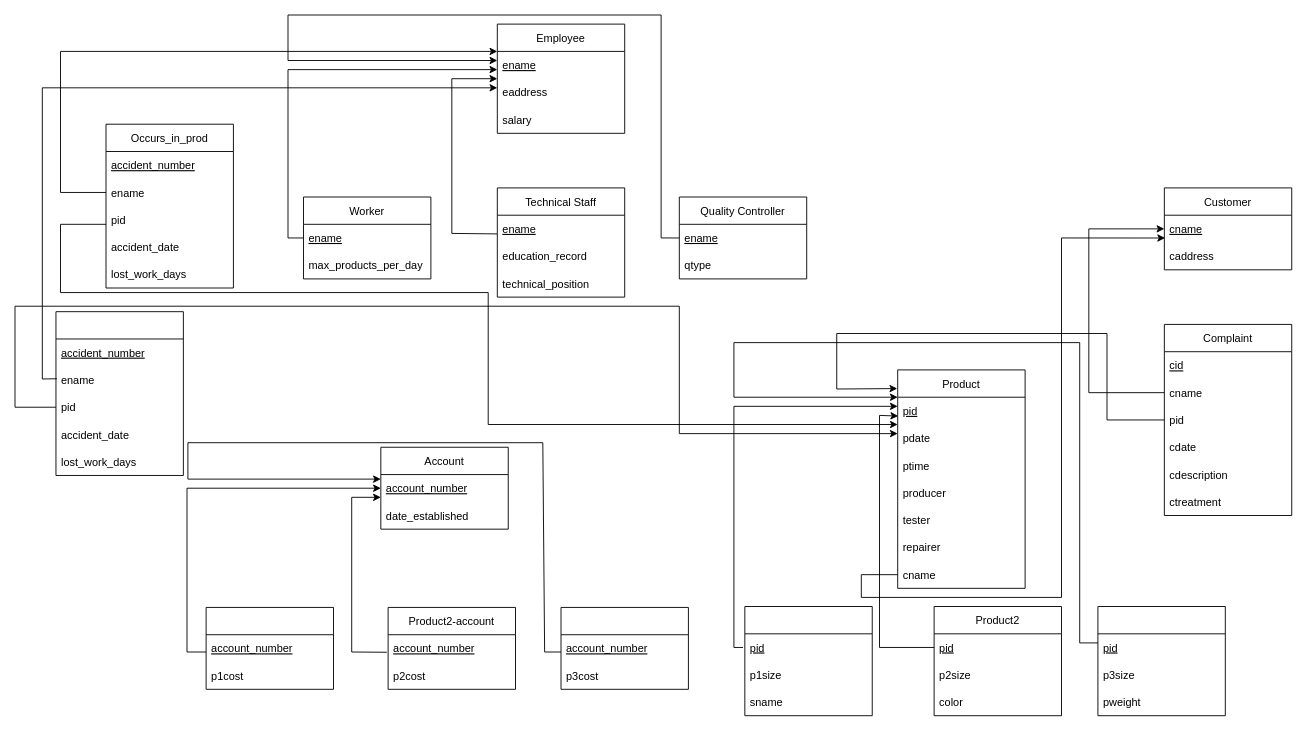
Image size: 1307x731. Some labels were removed from this diagram. The shapes that lost their labels are listed below. From the top down, each one's box as (x1, y1, x2, y2) in pixels, then its label:
(55, 311, 183, 475): Occurs_in_repair
(205, 607, 334, 689): Product1-account
(560, 607, 688, 689): Product3-account
(744, 606, 872, 716): Product1
(1097, 606, 1225, 716): Product3
